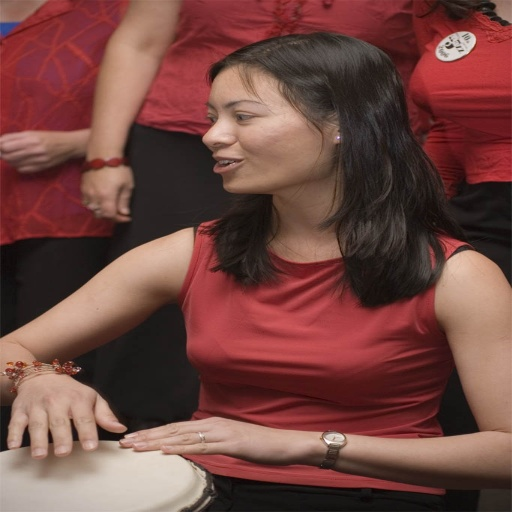hand: (0, 358, 110, 471), (116, 415, 319, 469), (79, 161, 138, 224), (0, 129, 79, 175)
